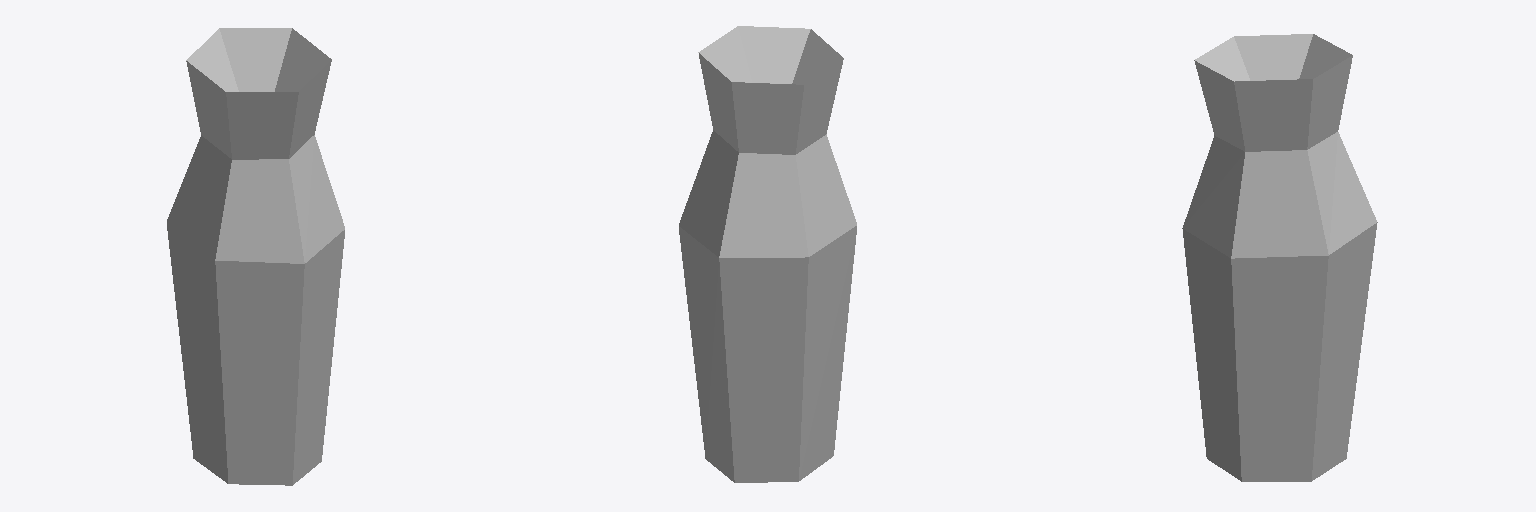
File: elvenpottery02.obj
3 views of the same model, side by side, from view 1: azimuth 30°, elevation 25°; view 2: azimuth 150°, elevation 25°; view 3: azimuth 270°, elevation 25° (orthographic).
Visible parts, largest first — view 1: object 1; view 2: object 1; view 3: object 1.
Boxes of the visible parts, <box> form: object 1: <box>167,28,344,485</box>; object 1: <box>679,26,856,482</box>; object 1: <box>1182,34,1377,481</box>.
Bounding box in the file's own units: 0.6594 × 1.96 × 0.855.